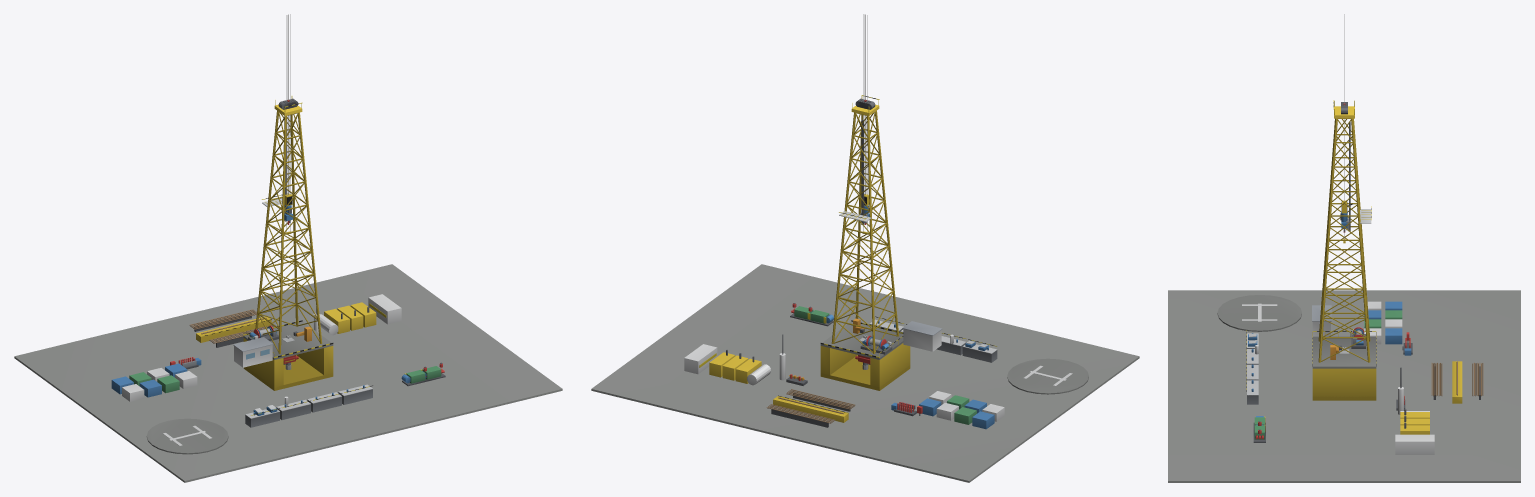
Rendered from heli_med.glb.
3 renders of one model, left to right at view 1: azimuth 30°, elevation 25°; view 2: azimuth 150°, elevation 25°; view 3: azimuth 270°, elevation 25°, orthographic. The views are drawn at different scales.
Visible parts, largest first — view 1: site__pad, mast__mast, site__modules, mast__substructure, mudtanks__tanks, mast__floor, generators__gensets, pipehandling__racker, mast__doghouse, pipehandling__catwalk, generators__vfd, block__travelling; view 2: site__pad, mast__mast, site__modules, mast__substructure, mast__floor, pipehandling__racker, generators__gensets, mudtanks__tanks, mast__doghouse, pipehandling__catwalk, generators__vfd; view 3: site__pad, mast__mast, site__modules, mast__substructure, mast__floor, generators__vfd, pipehandling__racker, mudtanks__tanks, generators__gensets, mast__doghouse, pipehandling__catwalk.
Boxes of the visible parts, <box> form: site__pad: <box>14,264,562,482</box>; mast__mast: <box>255,111,322,353</box>; site__modules: <box>111,363,228,454</box>; mast__substructure: <box>243,338,333,390</box>; mudtanks__tanks: <box>245,384,372,427</box>; mast__floor: <box>243,320,333,359</box>; generators__gensets: <box>324,302,376,333</box>; pipehandling__racker: <box>189,309,274,347</box>; mast__doghouse: <box>233,337,273,367</box>; pipehandling__catwalk: <box>196,316,271,342</box>; generators__vfd: <box>368,294,401,324</box>; block__travelling: <box>284,14,292,205</box>; site__pad: <box>591,264,1139,482</box>; mast__mast: <box>831,111,899,353</box>; site__modules: <box>919,358,1088,429</box>; mast__substructure: <box>820,343,910,390</box>; mast__floor: <box>820,320,903,359</box>; pipehandling__racker: <box>766,389,855,427</box>; generators__gensets: <box>709,349,761,383</box>; mudtanks__tanks: <box>869,316,997,362</box>; mast__doghouse: <box>902,321,942,351</box>; pipehandling__catwalk: <box>773,395,848,422</box>; generators__vfd: <box>684,344,717,374</box>; site__pad: <box>1168,290,1520,482</box>; mast__mast: <box>1318,118,1370,362</box>; site__modules: <box>1217,295,1402,344</box>; mast__substructure: <box>1312,368,1376,400</box>; mast__floor: <box>1312,331,1376,368</box>; generators__vfd: <box>1395,434,1434,454</box>; pipehandling__racker: <box>1431,362,1483,399</box>; mudtanks__tanks: <box>1246,330,1258,404</box>; generators__gensets: <box>1400,409,1429,434</box>; mast__doghouse: <box>1312,305,1331,336</box>; pipehandling__catwalk: <box>1452,361,1462,403</box>.
Bounding box in the file's own units: 64 × 58.24 × 50.
